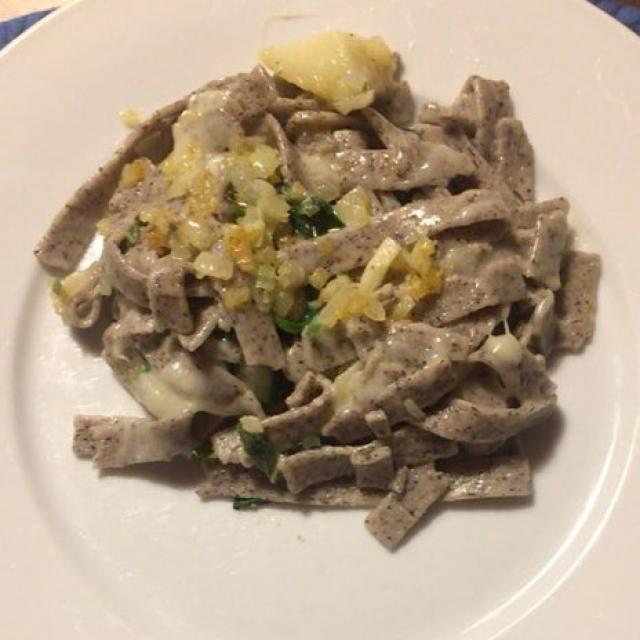onion: (123, 143, 293, 282)
potatoes: (256, 26, 405, 107)
spinach: (281, 197, 347, 336)
